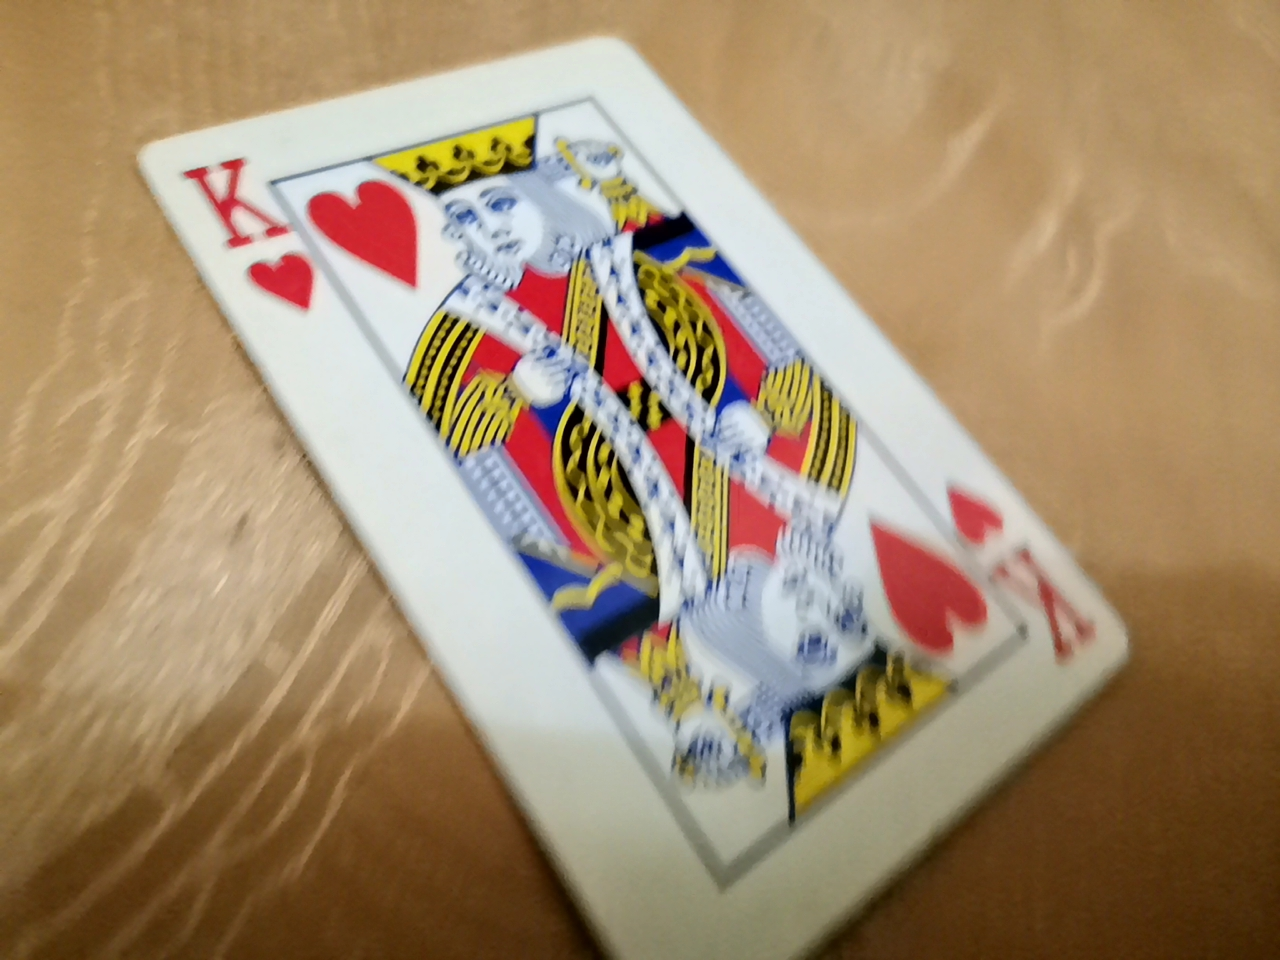hx k: (132, 0, 1089, 739)
